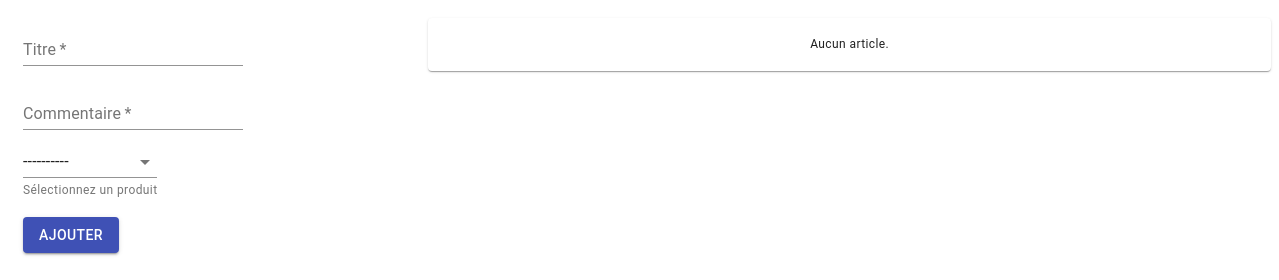
Test: Brief creation tests › test submit
Check: the element showing "Aucun article." is shown, box [428,18,1271,71]
Step 1. Type "Brief title" into the field named "title" next to "Titre" → {"x": 133, "y": 50}, box [23,34,243,66]
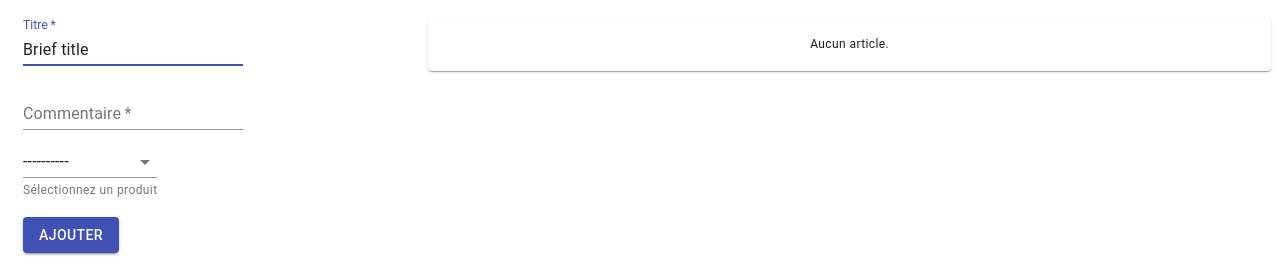
Step 2. Type "Brief comment" into the field named "comment" next to "Commentaire" → {"x": 133, "y": 114}, box [23,98,243,130]
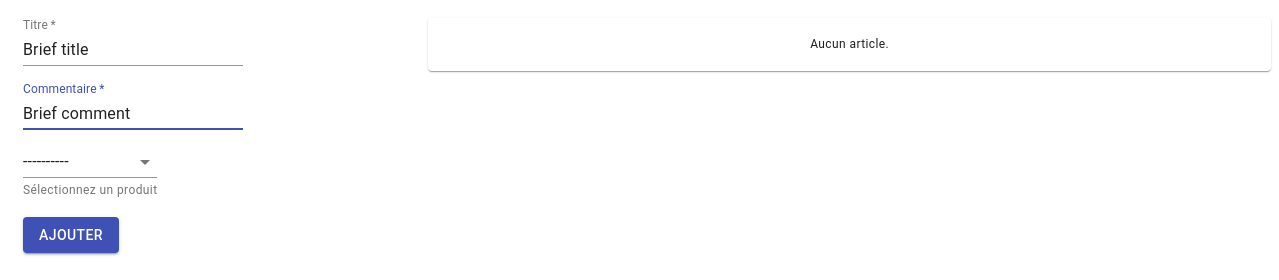
Step 3. Click the button "----------" → {"x": 46, "y": 162}, box [23,152,69,171]
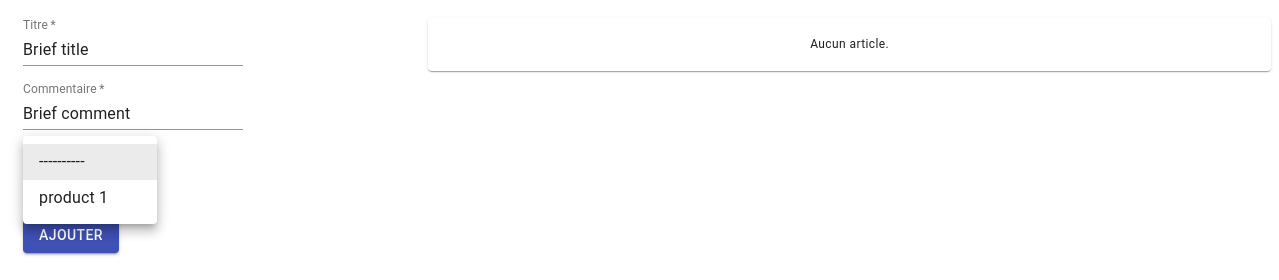
Step 4. Click the option "product 1" → {"x": 74, "y": 198}, box [39,188,108,207]
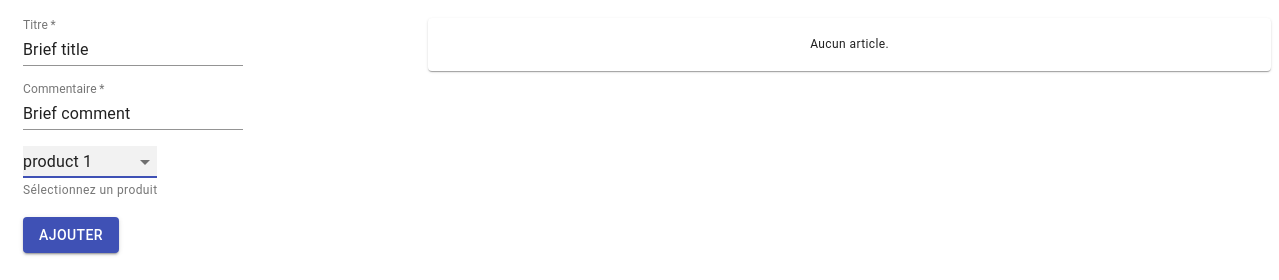
Step 5. Click the submit button → {"x": 71, "y": 236}, box [23,217,119,254]
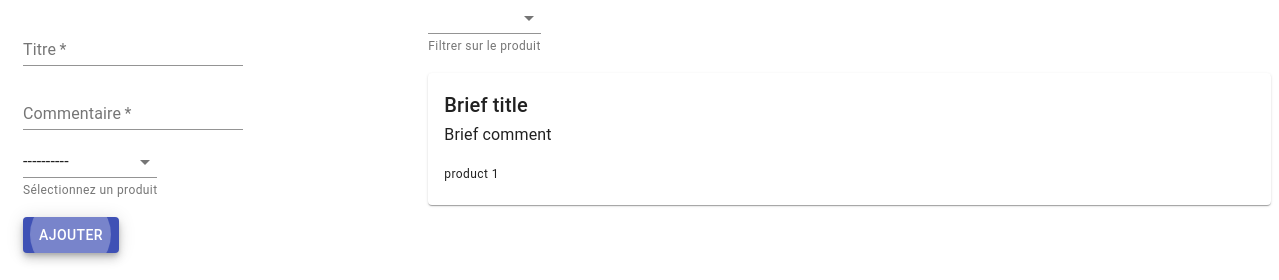
Check: the heading "Brief title" is shown, box [444,93,528,117]
Check: the text "Brief comment" is shown, box [444,125,552,144]
Check: the text "product 1" is shown, box [444,167,499,181]
